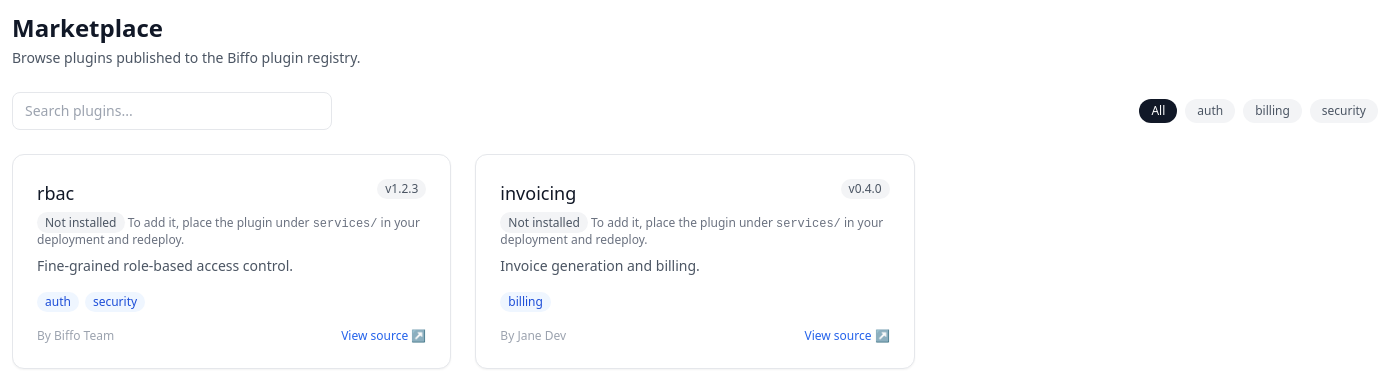
Test: MarketplacePage › filters plugins by search query
Expected: the heading "rbac" is shown, left=37, top=179, right=74, bottom=207
Step 1. Type "invoic" into the search field labelled "Search plugins" → coordinates (172, 111), box left=12, top=92, right=332, bottom=130
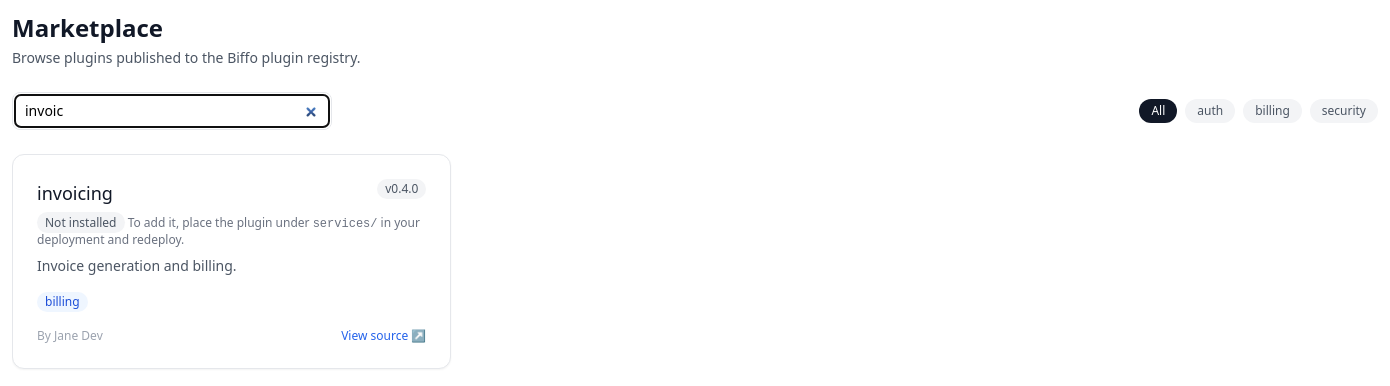
Expected: the heading "invoicing" is shown, left=37, top=179, right=113, bottom=207
Expected: the link "rbac" is gone
